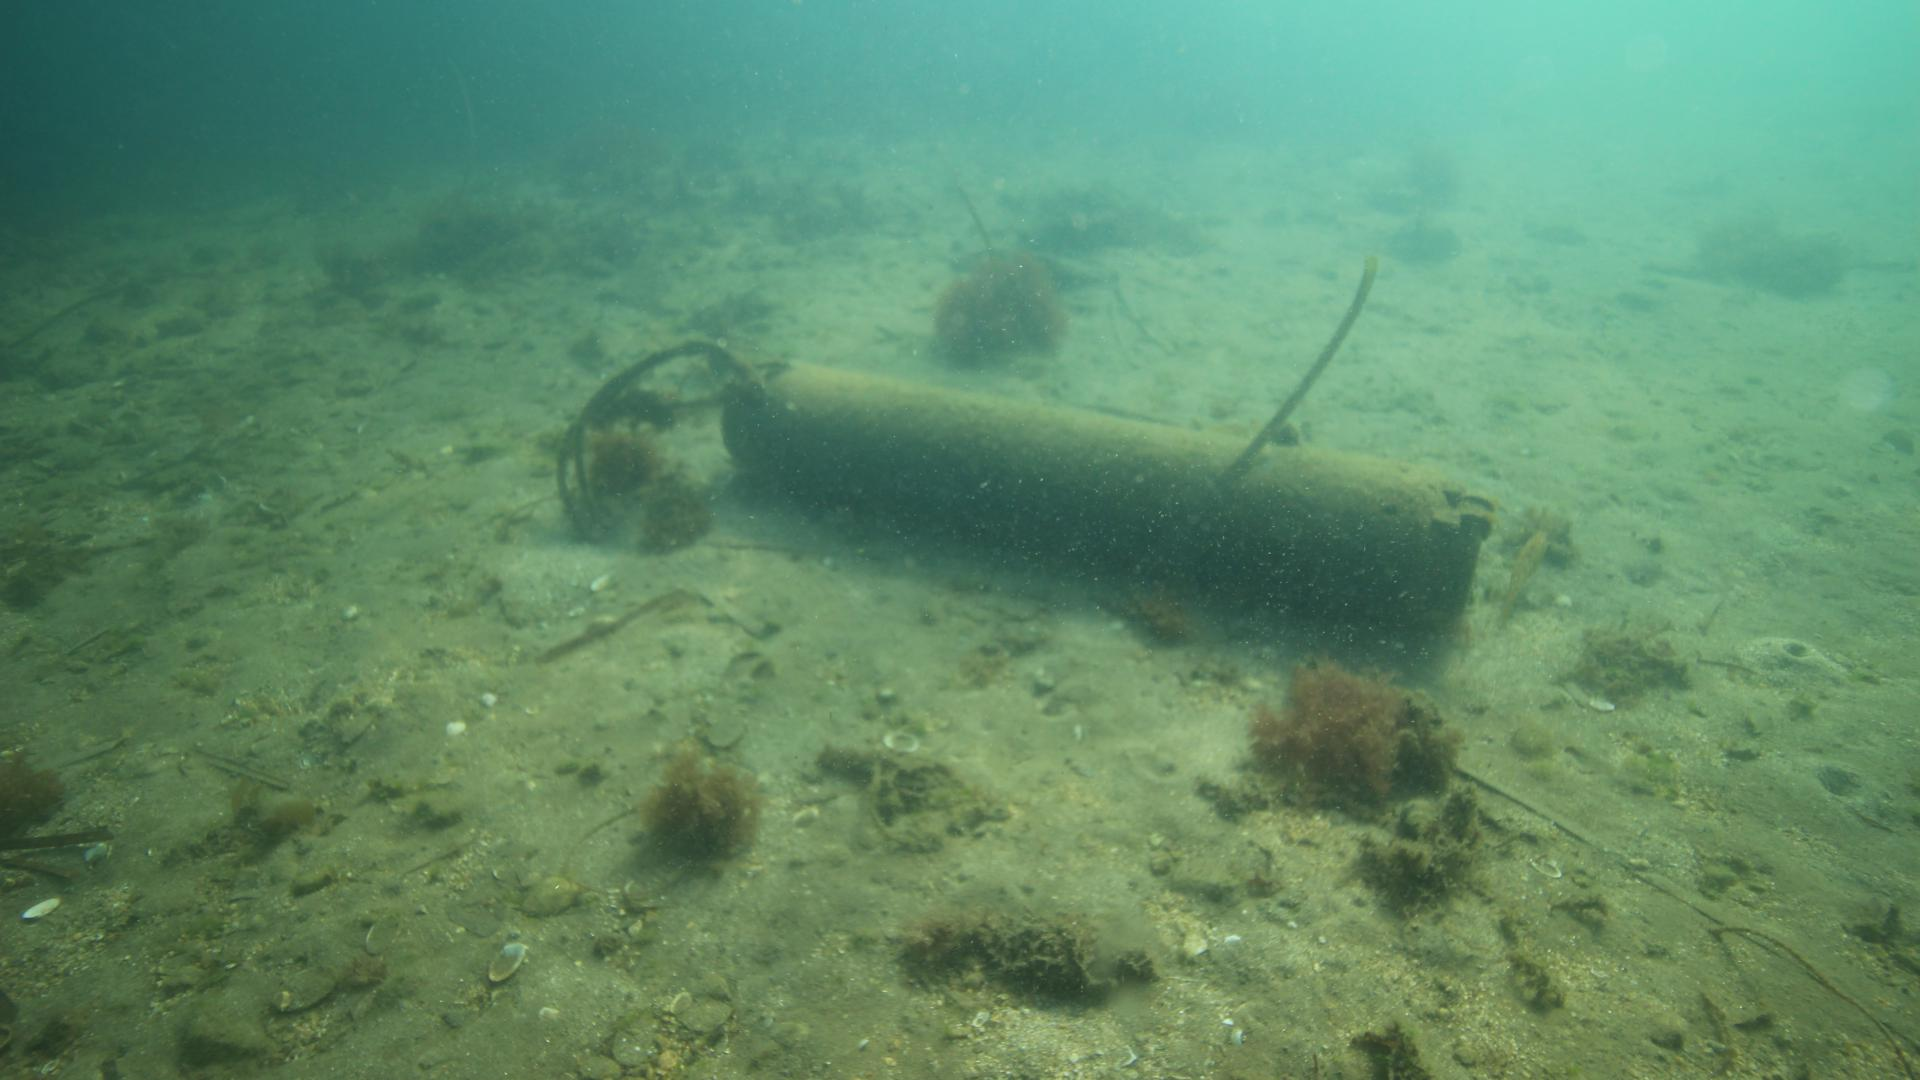eel fish trap: (717, 352, 1501, 625)
